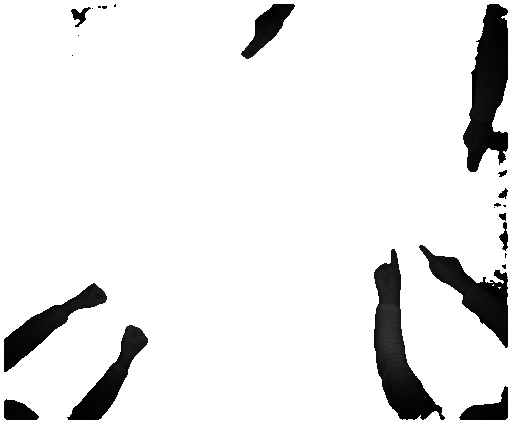fist: (119, 320, 151, 364), (76, 280, 111, 314)
hand: (417, 240, 473, 290), (240, 12, 286, 63), (368, 248, 406, 304), (456, 125, 494, 175)
